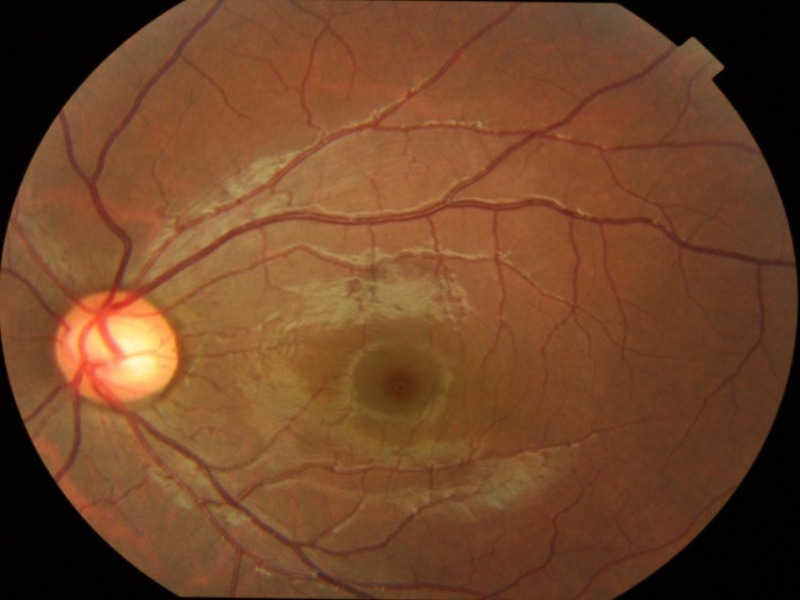Optic Cup: (86, 314, 157, 377)
Optic Disc: (54, 289, 179, 406)
